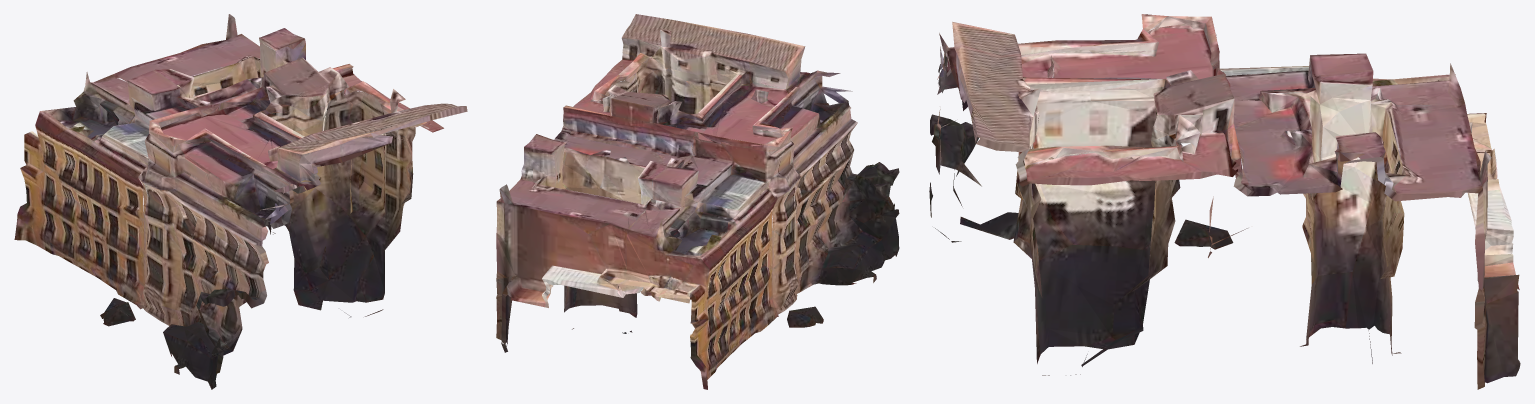
The picture shows the model from 3 angles, left to right: view 1: azimuth 30°, elevation 25°; view 2: azimuth 150°, elevation 25°; view 3: azimuth 270°, elevation 25°; orthographic projection. The views are drawn at different scales.
Parts seen in each view (by area): view 1: Mesh_0; view 2: Mesh_0; view 3: Mesh_0.
Boxes of the visible parts, x1,y1,x2,y2 form: Mesh_0: (14, 14, 467, 389); Mesh_0: (496, 14, 899, 389); Mesh_0: (929, 14, 1520, 389).
Size of the model in its own units: 30.6 by 23.17 by 41.16.
1 material, 1 textured.
